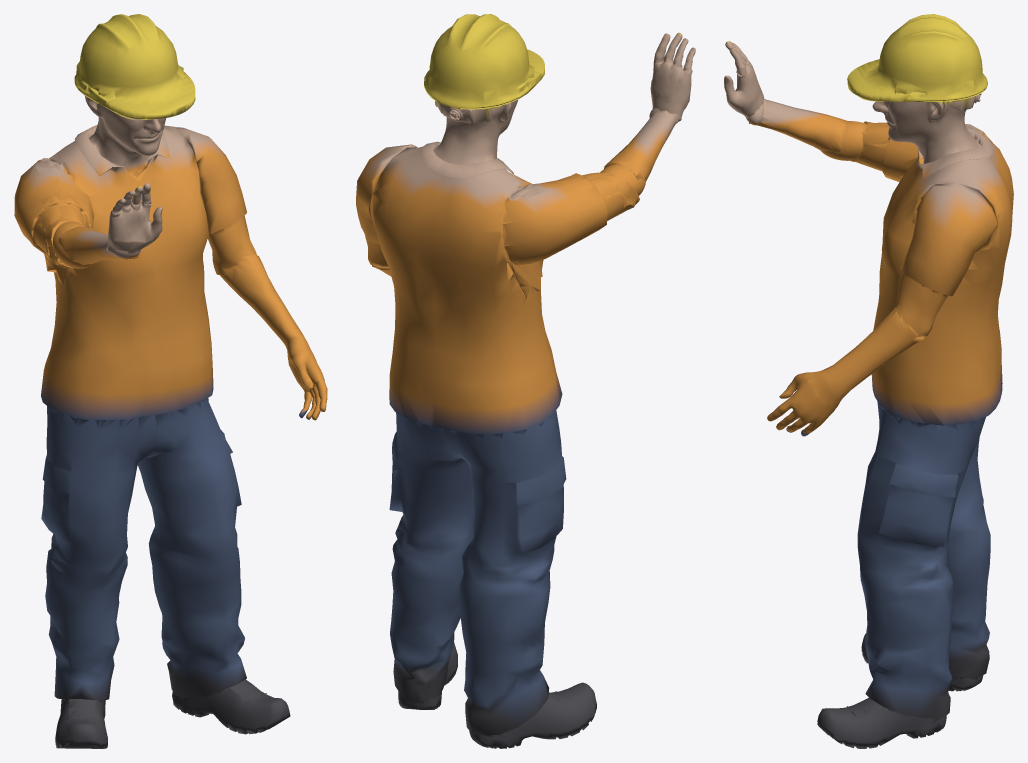
The model's file is worker.glb.
3 views of the same model, side by side, from view 1: azimuth 30°, elevation 25°; view 2: azimuth 150°, elevation 25°; view 3: azimuth 270°, elevation 25° (orthographic). The views are drawn at different scales.
Visible parts, largest first — view 1: worker; view 2: worker; view 3: worker.
Boxes of the visible parts, x1,y1,x2,y2 form: worker: [14, 14, 327, 748]; worker: [356, 14, 695, 748]; worker: [724, 14, 1013, 748].
Size of the model in its own units: 0.6371 by 1.75 by 0.6756.
